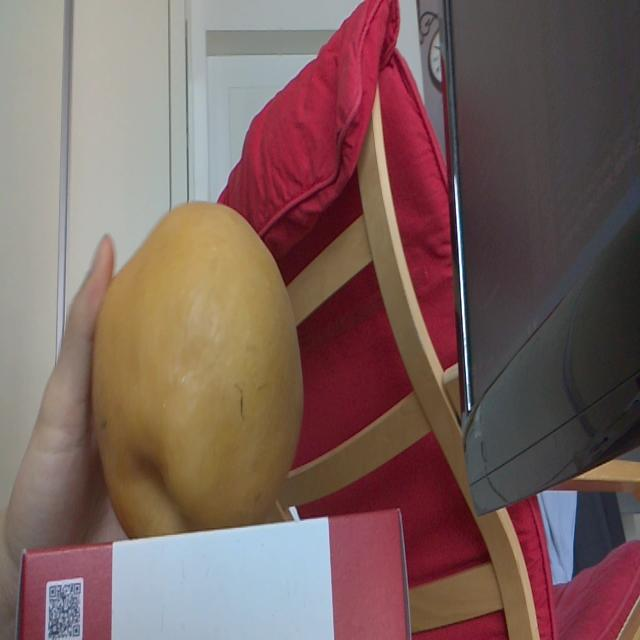pear: (91, 198, 303, 540)
